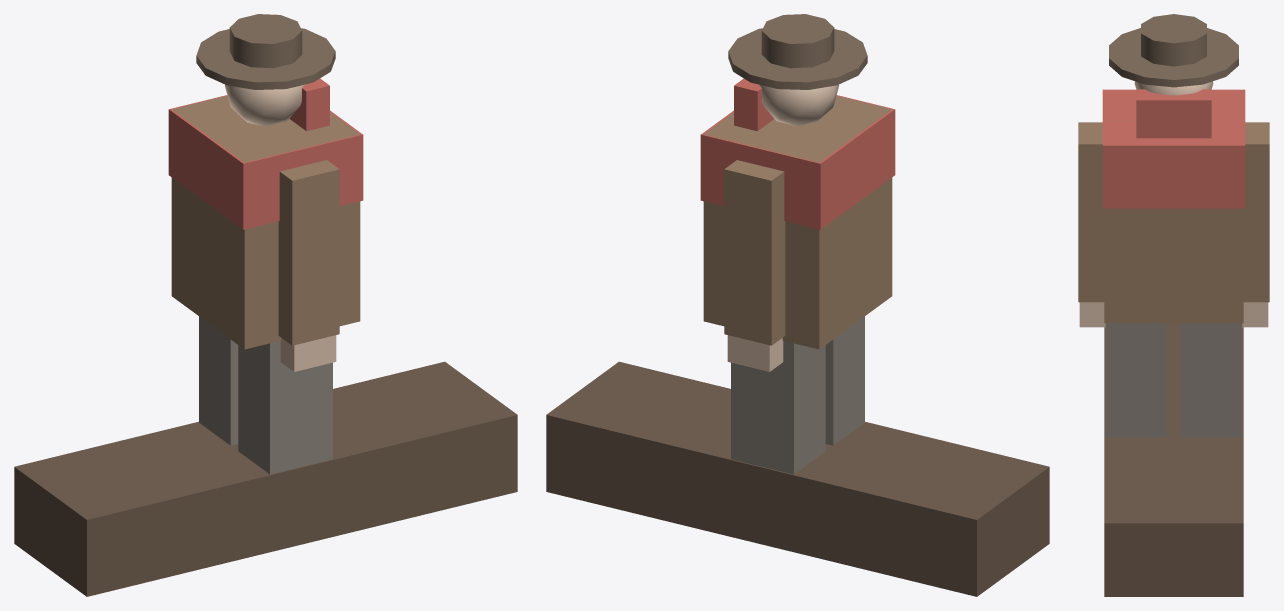
Rendered from foosball-figure-outlaw.glb.
3 renders of one model, left to right at view 1: azimuth 30°, elevation 25°; view 2: azimuth 150°, elevation 25°; view 3: azimuth 270°, elevation 25°, orthographic. The views are drawn at different scales.
Visible parts, largest first — view 1: boot, coat, trouser, accent, hat, skin; view 2: boot, coat, trouser, accent, hat, skin; view 3: coat, boot, accent, trouser, hat, skin.
Boxes of the visible parts, <box> form: boot: <box>14,361,517,596</box>; coat: <box>171,96,360,349</box>; trouser: <box>199,316,332,474</box>; accent: <box>168,78,363,229</box>; hat: <box>196,14,335,89</box>; skin: <box>225,84,336,371</box>; boot: <box>546,361,1049,596</box>; coat: <box>703,96,892,349</box>; trouser: <box>731,316,864,474</box>; accent: <box>700,78,895,229</box>; hat: <box>728,14,867,89</box>; skin: <box>727,84,838,371</box>; coat: <box>1078,120,1269,323</box>; boot: <box>1104,323,1243,596</box>; accent: <box>1102,89,1245,208</box>; trouser: <box>1105,323,1242,437</box>; hat: <box>1109,14,1238,87</box>; skin: <box>1079,81,1268,327</box>.
Bounding box in the file's own units: 0.082 × 0.0889 × 0.033.
